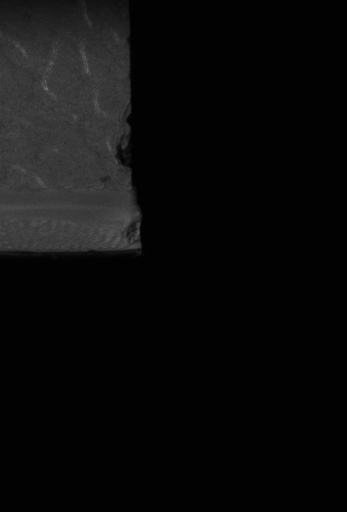bengque: (112, 108, 137, 173), (124, 215, 144, 251)
